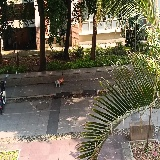fire: (58, 77, 63, 83)
